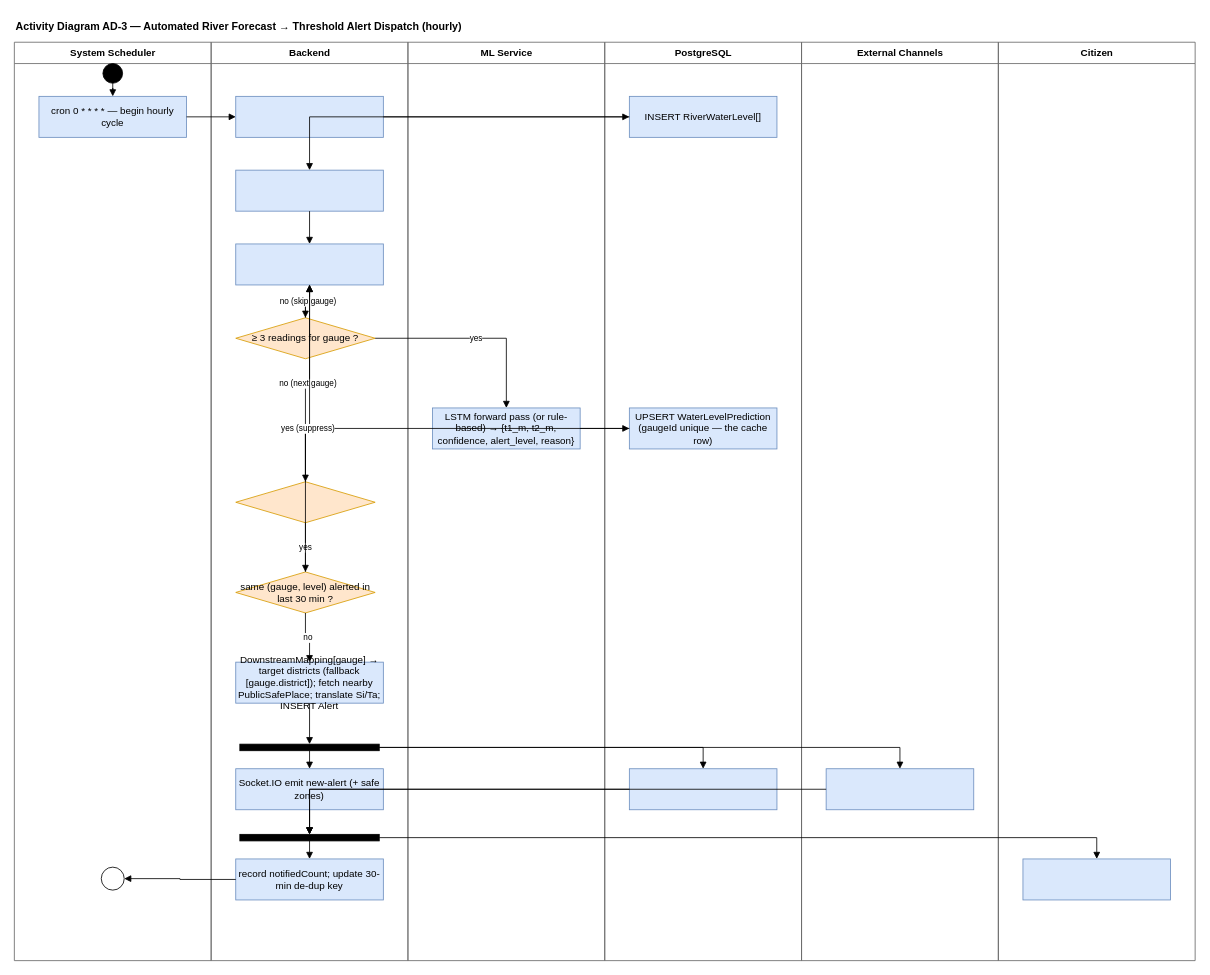
This 1210x975 diagram has some shape labels left out. Each missing label, with the centre of its shape:
confidence ≥ 0.75 AND threat ≤ 2 h AND alert_level ≠ NONE ?: point 305,502
evaluateThresholdsAndAlerts() — raw-reading breaches (rate-limited): point 309,190
Expo push · Twilio SMS · Nodemailer · Telegram: point 899,789
INSERT Notification[] for affected users: point 703,789
receive alert only if isAlertNearby() OR "All Island": point 1096,879
runPredictionsForAllGauges() — distinct active gauges; loop (500 ms stagger): point 309,264
simulateDataFetch() → refresh gauge readings: point 309,116
